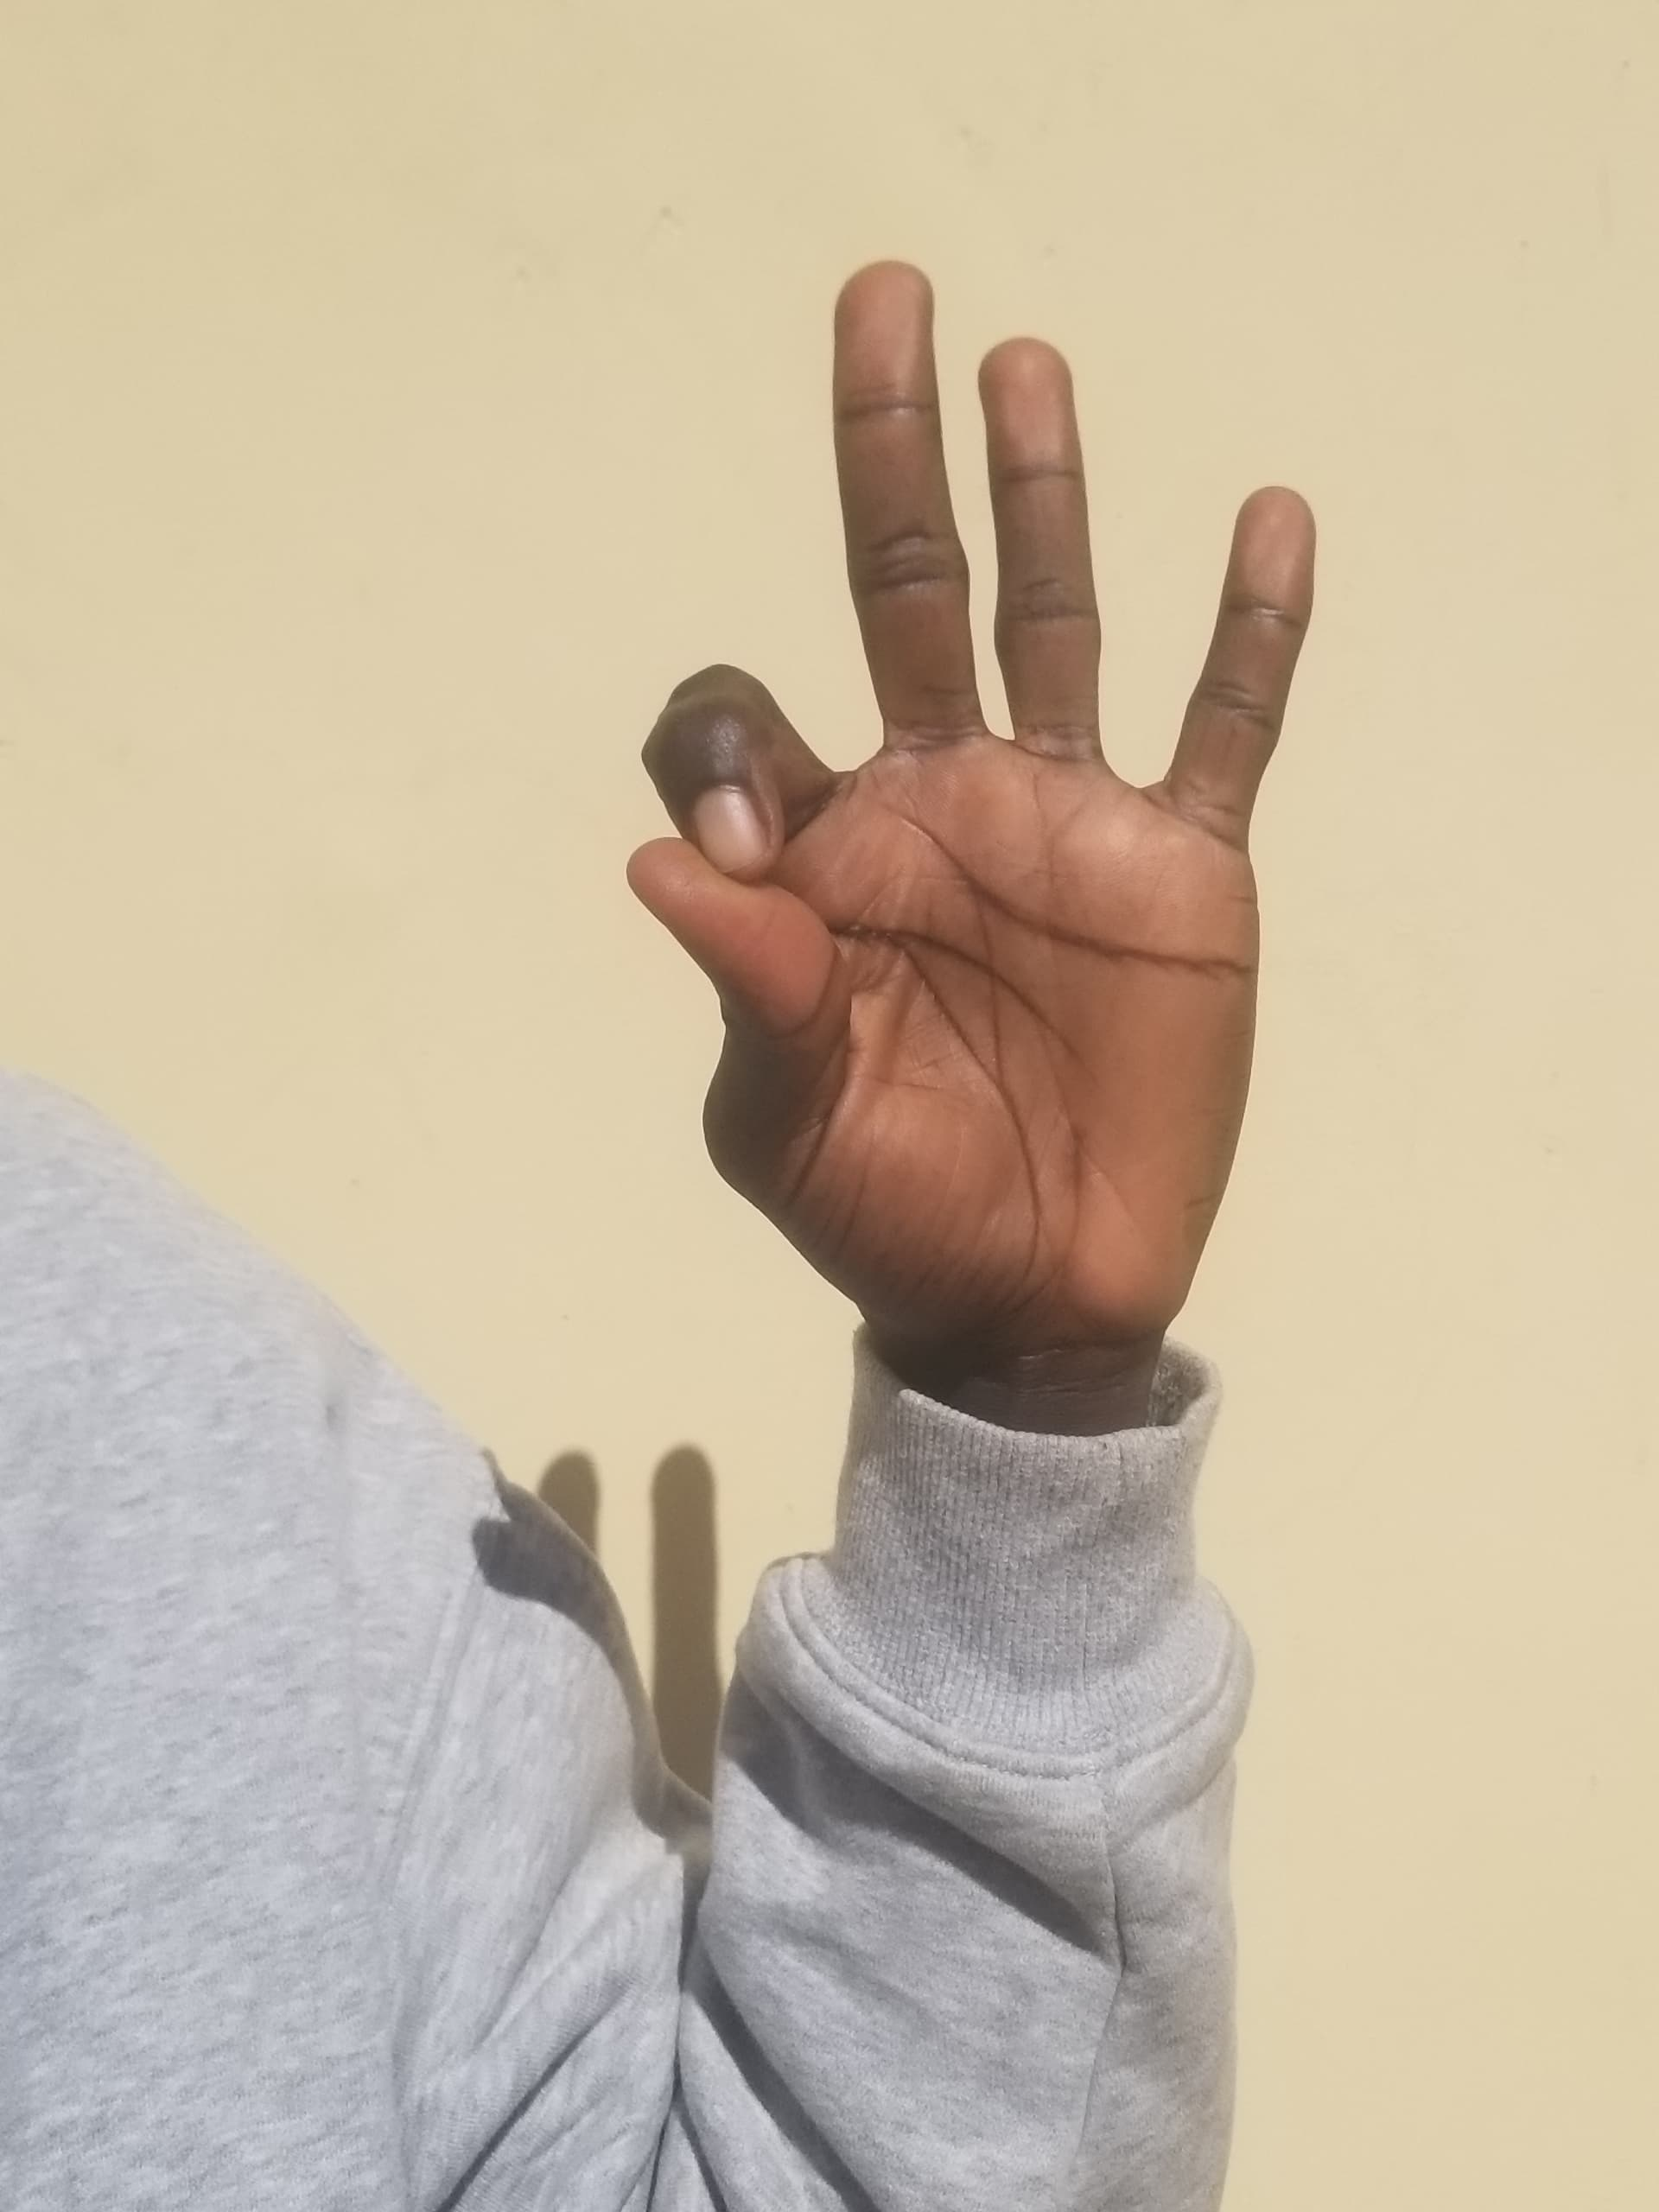okay: (579, 172, 1398, 1521)
